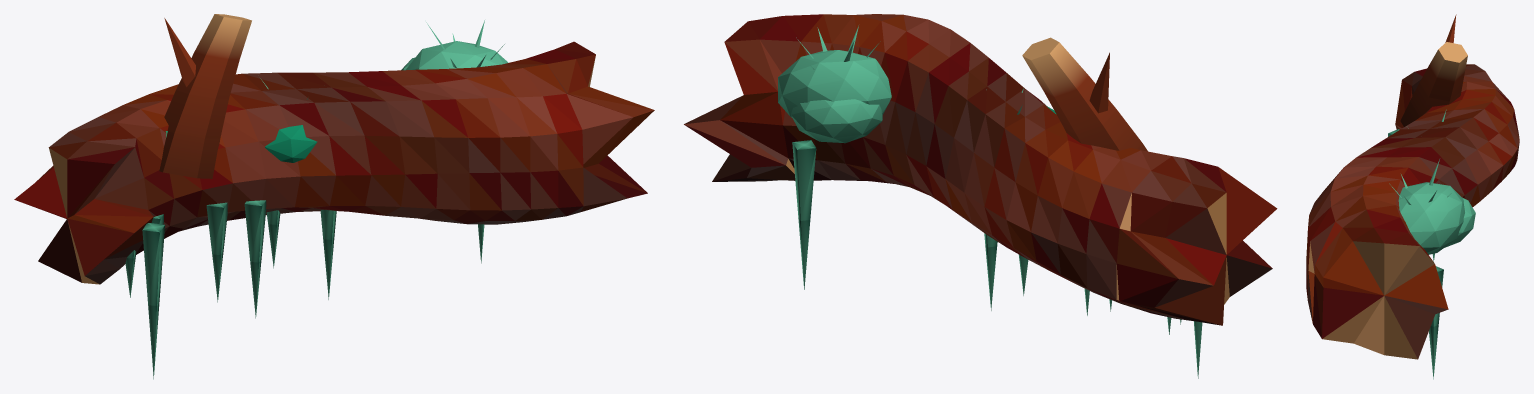
The model's file is pohon_tumbang_bridge_redwood_550870.glb.
The picture shows the model from 3 angles, left to right: view 1: azimuth 30°, elevation 25°; view 2: azimuth 150°, elevation 25°; view 3: azimuth 270°, elevation 25°; orthographic projection. The views are drawn at different scales.
Parts seen in each view (by area): view 1: Batang_Melintang_Sungai; view 2: Batang_Melintang_Sungai; view 3: Batang_Melintang_Sungai.
Boxes of the visible parts, x1,y1,x2,y2 form: Batang_Melintang_Sungai: [14, 14, 654, 379]; Batang_Melintang_Sungai: [684, 14, 1277, 378]; Batang_Melintang_Sungai: [1306, 14, 1519, 379].
Size of the model in its own units: 5.14 by 3 by 2.24.
